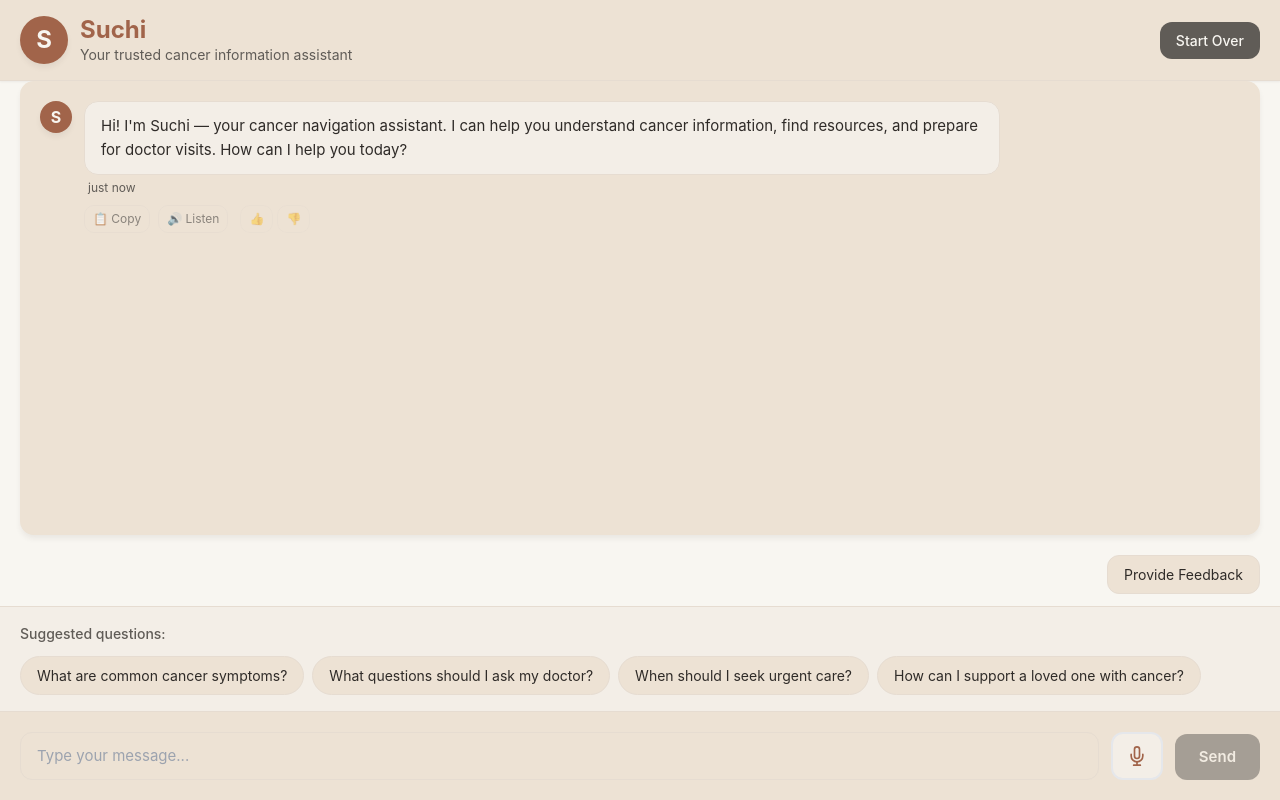
Scenario: ChatInterface — 55s turn timeout (issue #171) › renders the helpline/emergency fallback instead of the generic error
The image size is (1280, 800).
Type "My child is on treatment and has a severe headache." into the field with placeholder "Type your message...". click: {"x": 559, "y": 756}
box: [20,732,1099,780]
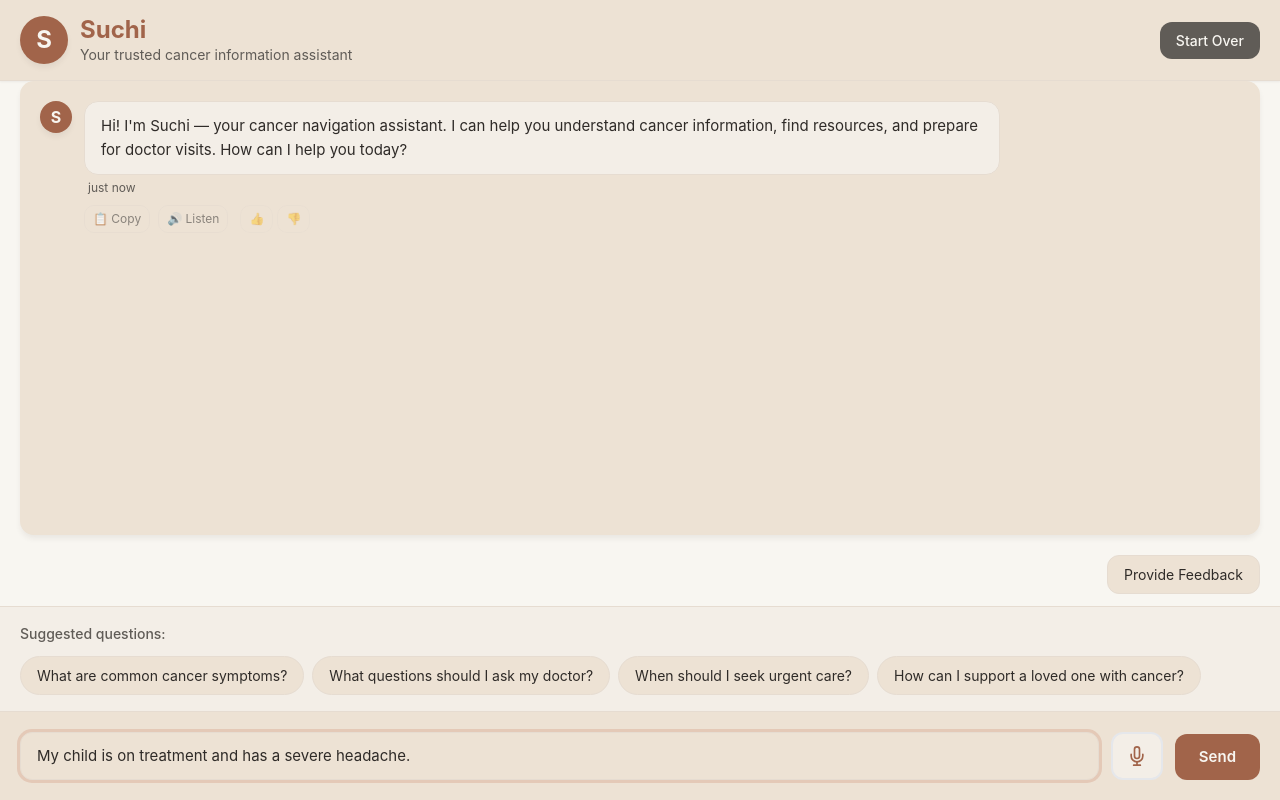
Press Enter
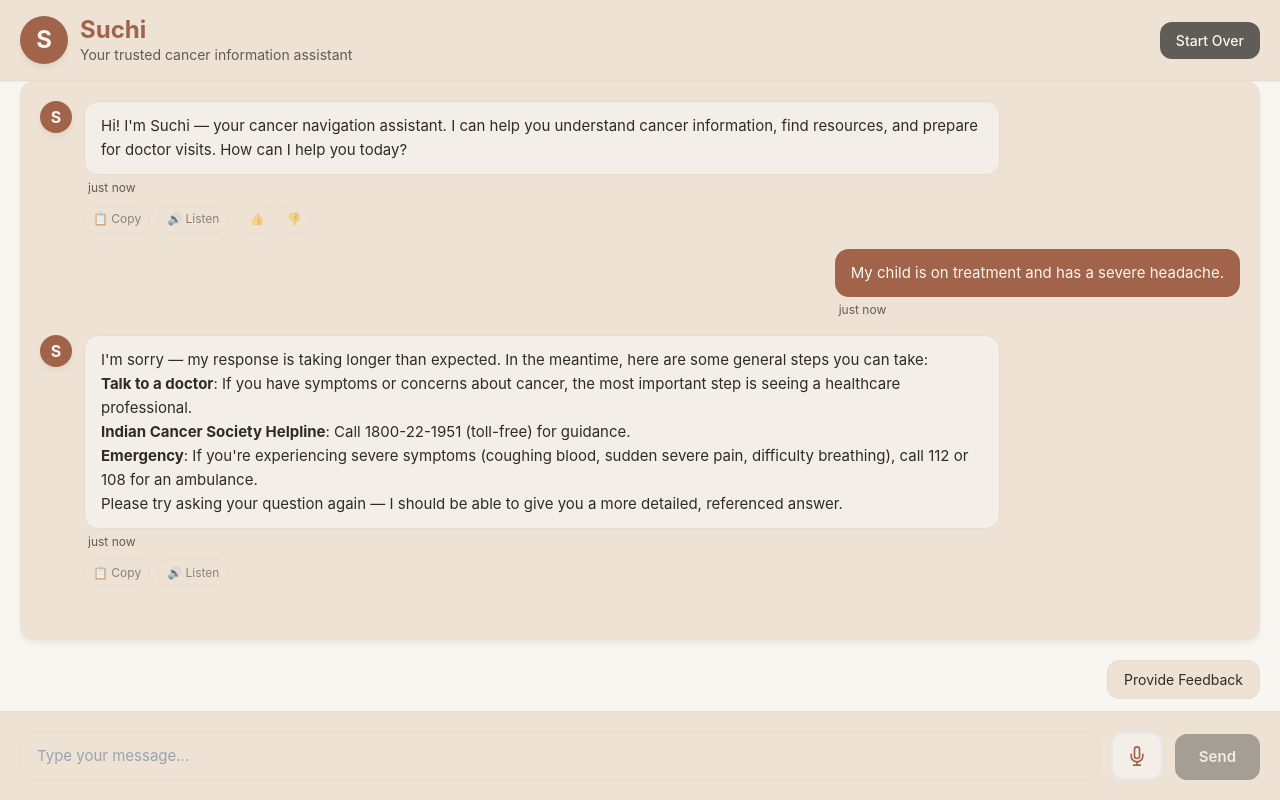
Expected: the element named "Chat messages" shows "1800-22-1951", [326,422,631,441]
Expected: the text "Talk to a doctor" is shown, [101,374,213,393]
